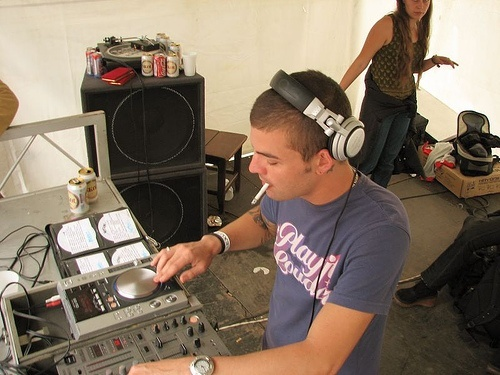head: (241, 67, 364, 210), (389, 1, 435, 22)
person: (138, 75, 405, 374), (336, 0, 460, 186)
